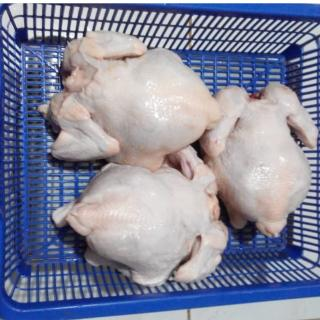Ayam: (36, 28, 226, 174), (50, 158, 233, 289), (197, 81, 320, 241)
